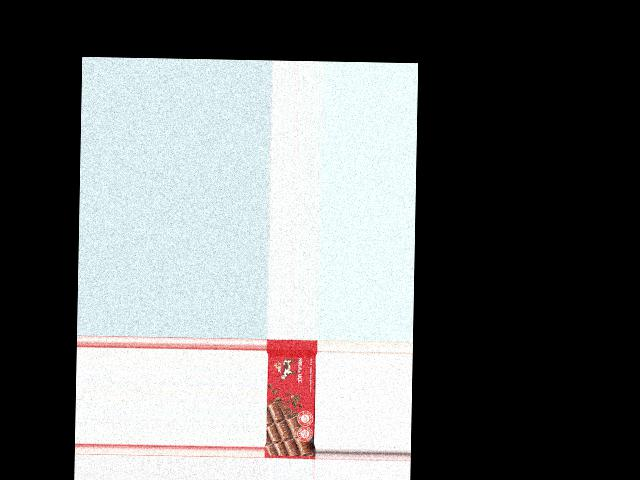chocolate: (265, 340, 318, 459)
